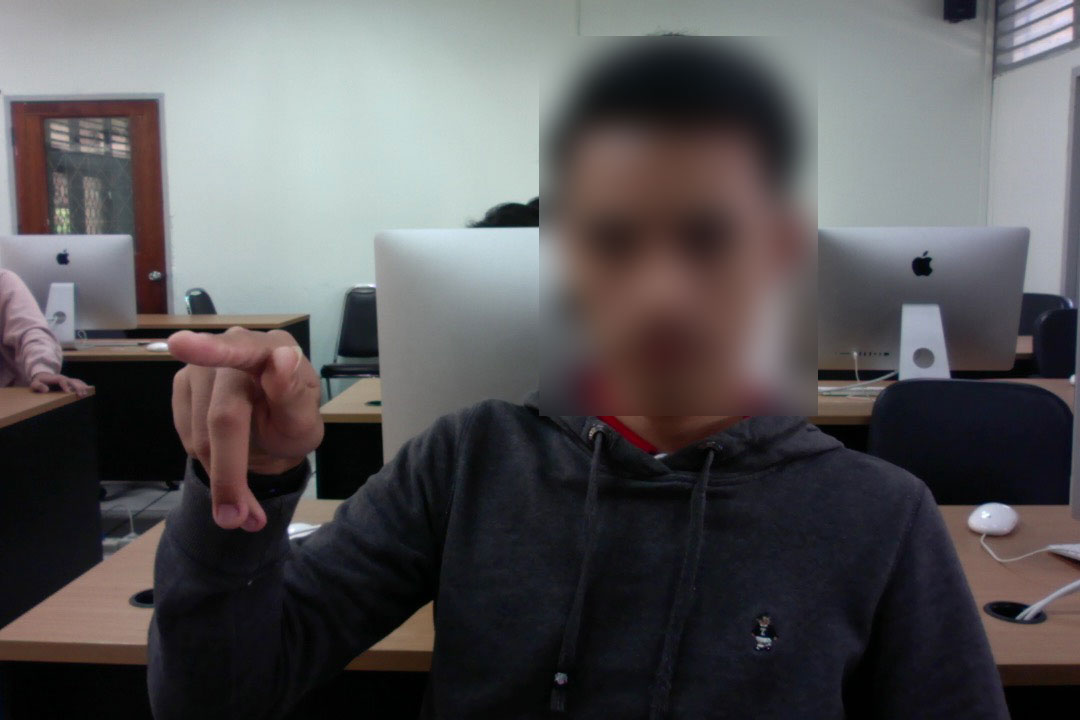por: (152, 322, 339, 540)
